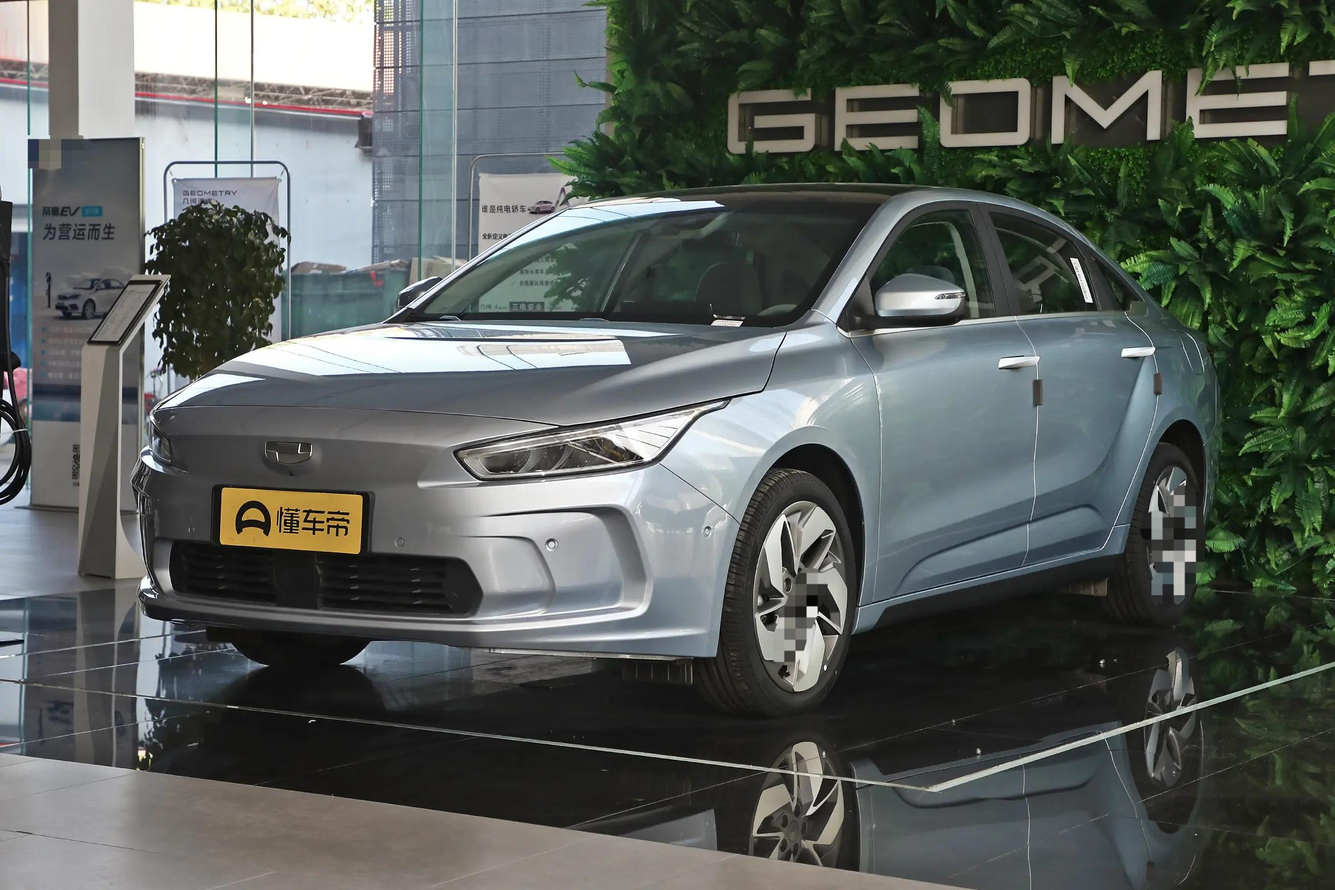GEOMETRY: (266, 442, 312, 463)
